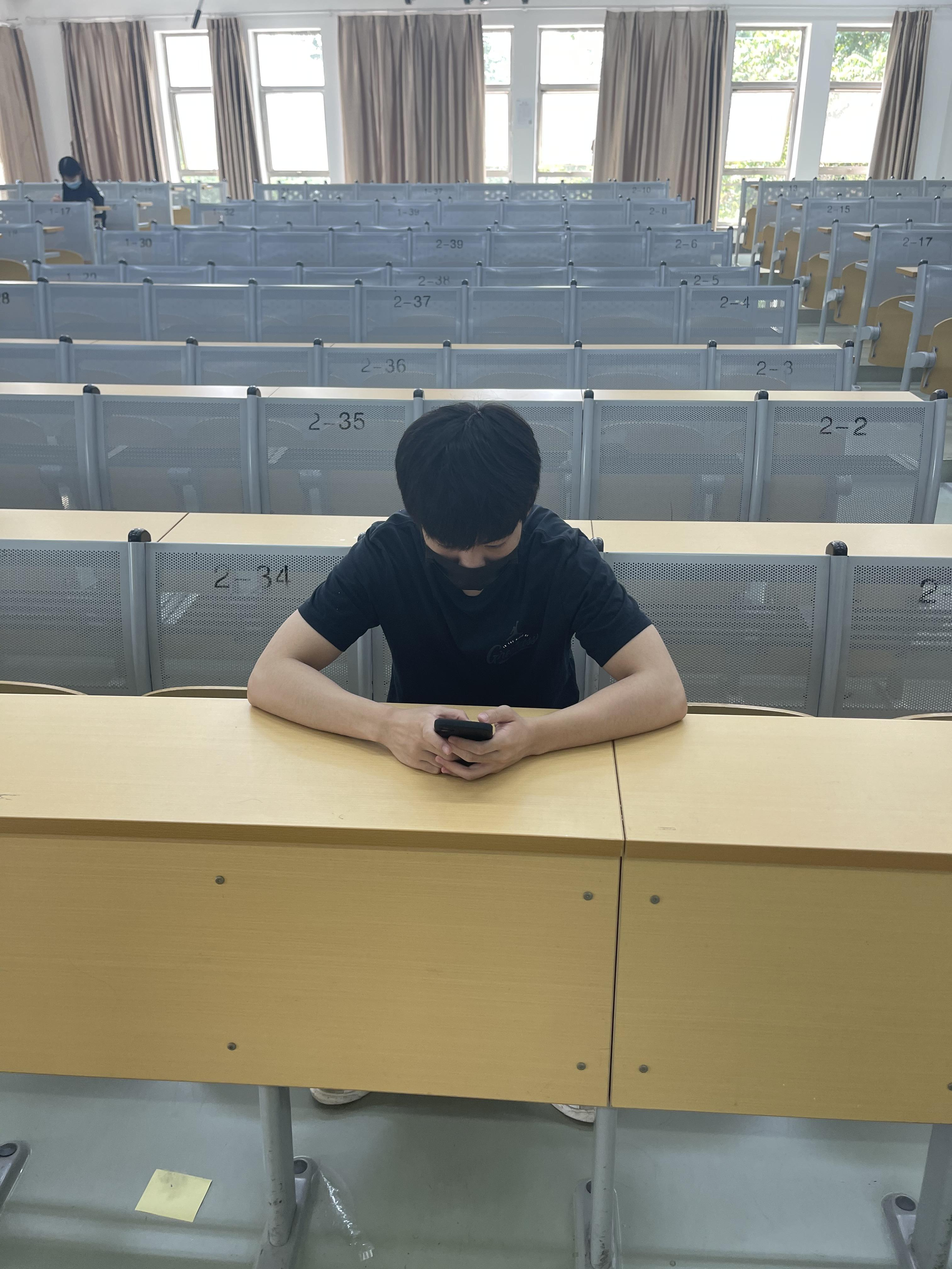phone: (250, 403, 682, 778)
study: (50, 154, 99, 201)
